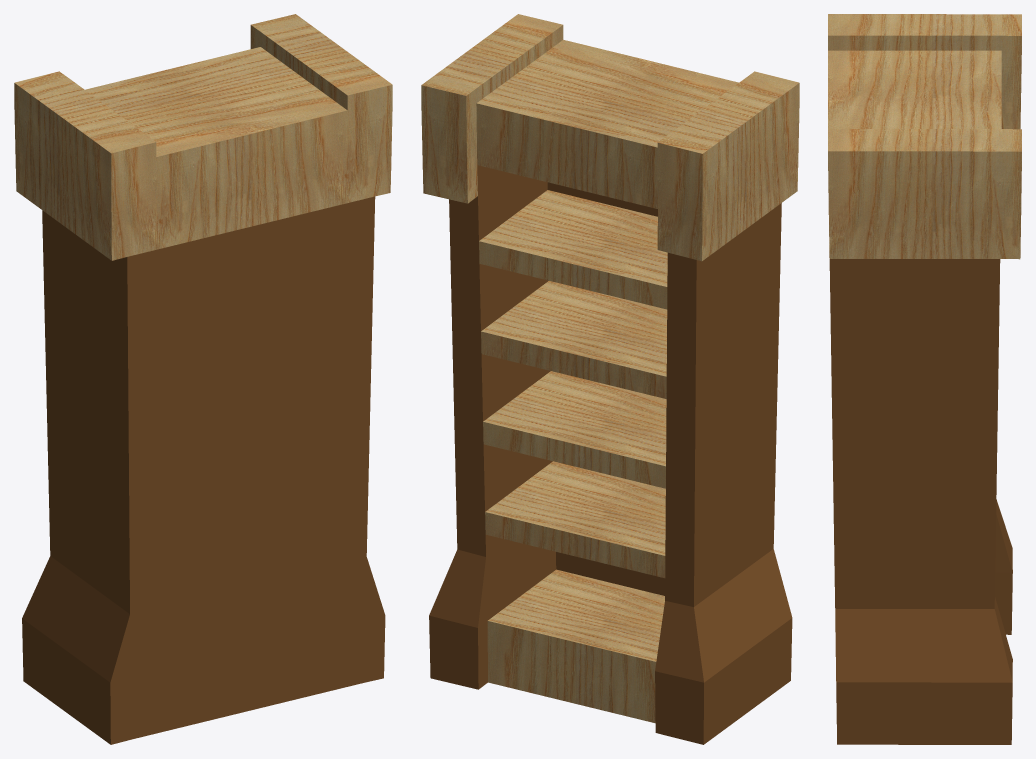
Rendered from BookCase.fbx.
The picture shows the model from 3 angles, left to right: view 1: azimuth 30°, elevation 25°; view 2: azimuth 150°, elevation 25°; view 3: azimuth 270°, elevation 25°; orthographic projection.
Visible parts, largest first — view 1: BookCase; view 2: BookCase; view 3: BookCase.
Part boxes in pixels (x1,y1,x2,y2): BookCase: (14, 14, 392, 744); BookCase: (421, 14, 799, 744); BookCase: (828, 14, 1021, 744).
Size of the model in its own units: 75.77 by 153 by 45.19.
